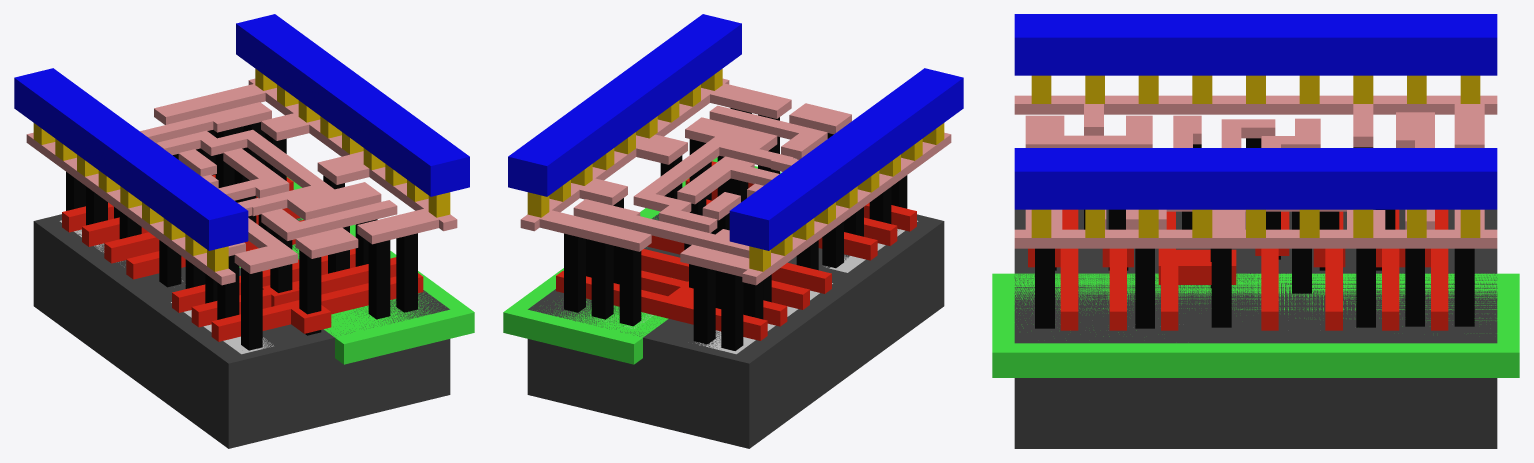
File: sky130_fd_sc_hd__o2bb2a_2.obj
The picture shows the model from 3 angles, left to right: view 1: azimuth 30°, elevation 25°; view 2: azimuth 150°, elevation 25°; view 3: azimuth 270°, elevation 25°; orthographic projection. The views are drawn at different scales.
Visible parts, largest first — view 1: subs, metal1, li, licon, poly, nwell, mcon, diff; view 2: subs, metal1, li, licon, poly, nwell, mcon, diff; view 3: metal1, subs, li, nwell, poly, licon, mcon.
Part boxes in pixels (left/top/right/bottom): subs: left=33, top=214, right=450, bottom=448; metal1: left=14, top=14, right=469, bottom=250; li: left=26, top=78, right=457, bottom=285; licon: left=66, top=122, right=417, bottom=350; poly: left=62, top=174, right=423, bottom=341; nwell: left=239, top=176, right=474, bottom=364; mcon: left=33, top=68, right=450, bottom=271; diff: left=59, top=220, right=273, bottom=354; subs: left=527, top=214, right=944, bottom=448; metal1: left=508, top=14, right=963, bottom=250; li: left=520, top=78, right=951, bottom=285; licon: left=564, top=108, right=907, bottom=350; poly: left=556, top=161, right=916, bottom=340; nwell: left=503, top=157, right=781, bottom=364; mcon: left=527, top=68, right=944, bottom=271; diff: left=695, top=220, right=918, bottom=354; metal1: left=1014, top=14, right=1497, bottom=209; subs: left=1014, top=209, right=1497, bottom=448; li: left=1014, top=95, right=1497, bottom=248; nwell: left=992, top=273, right=1519, bottom=377; poly: left=1028, top=209, right=1448, bottom=330; licon: left=1035, top=138, right=1474, bottom=328; mcon: left=1031, top=75, right=1480, bottom=237.
Bounding box in the file's own units: 3.2 × 2.74 × 4.52.
